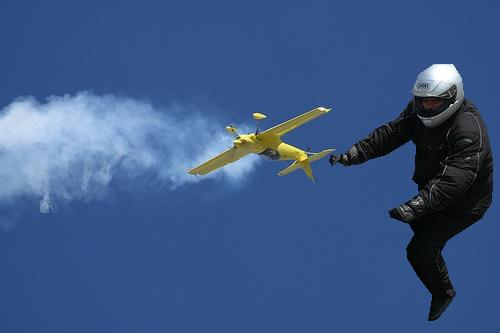tampered: (330, 65, 493, 321)
